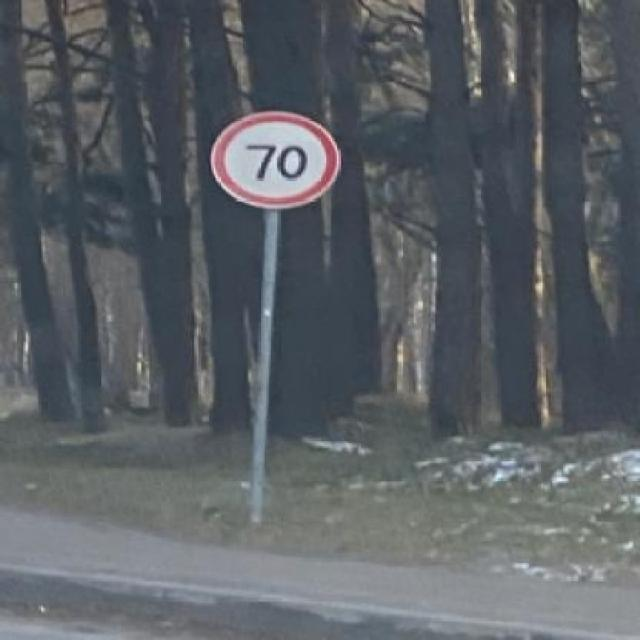forb_speed_over_70: (216, 113, 336, 207)
